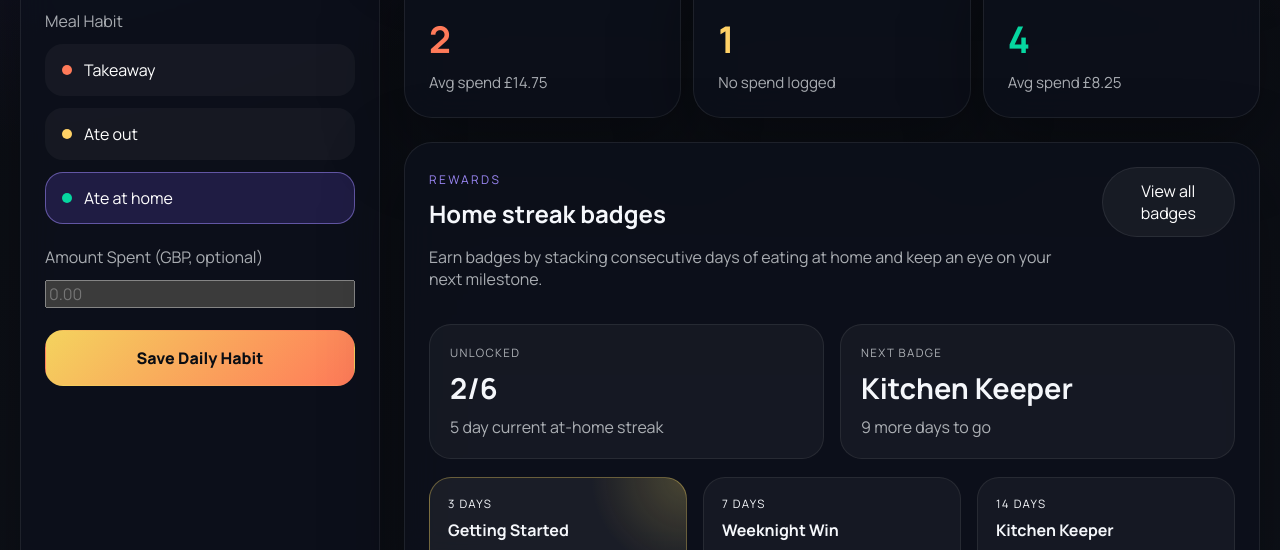
Test: App › opens the badge detail page from the dashboard
(page scrolled)
Expected: the heading "Home streak badges" is shown, [429,197,666,230]
Click the button "View all badges".
click(1168, 202)  # box [1102,167,1235,237]
(page scrolled)
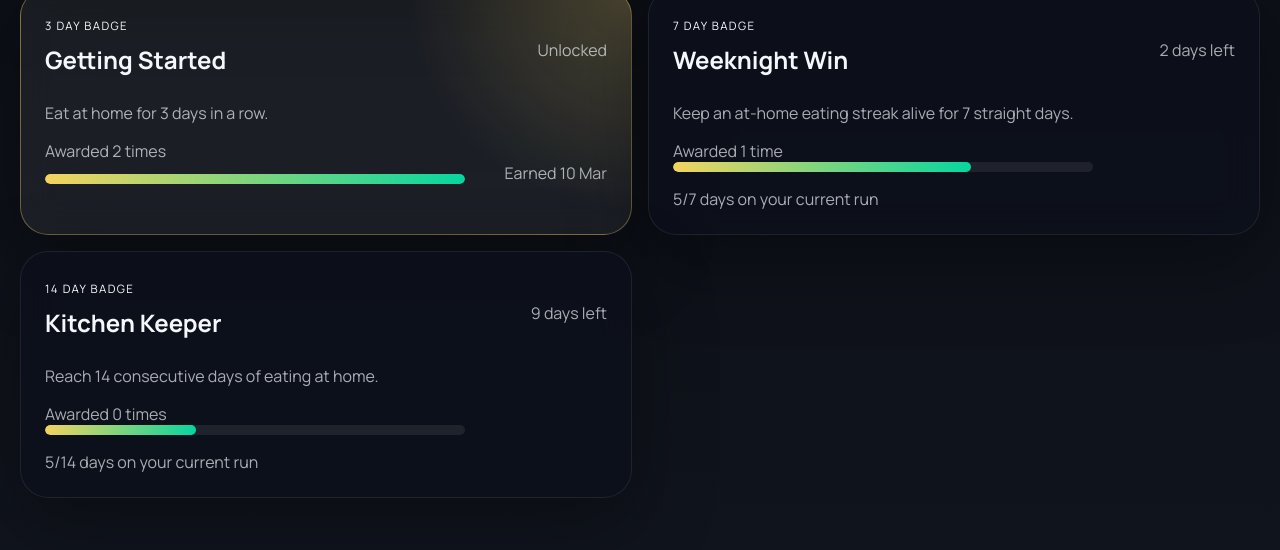
Expected: the heading "Getting Started" is shown, [45,43,226,76]
Now the text "Awarded 2 times" is shown, box [45,140,166,162]
Now the text "Earned 10 Mar" is shown, box [504,162,607,184]
